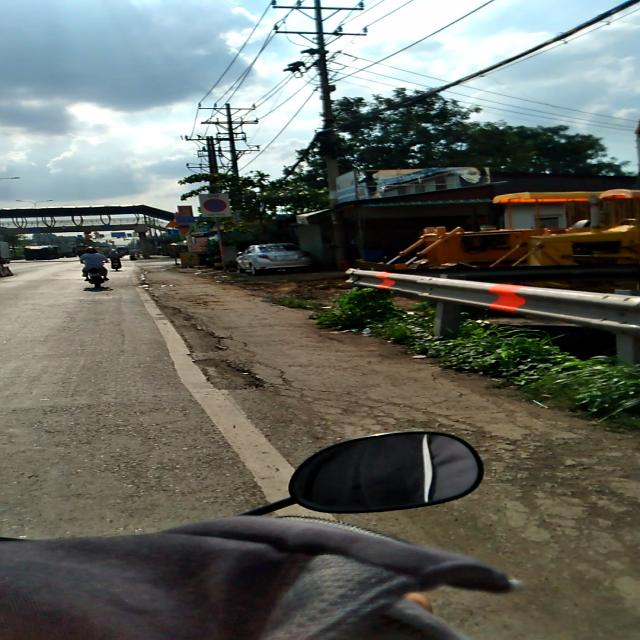P.130: (202, 198, 226, 212)
